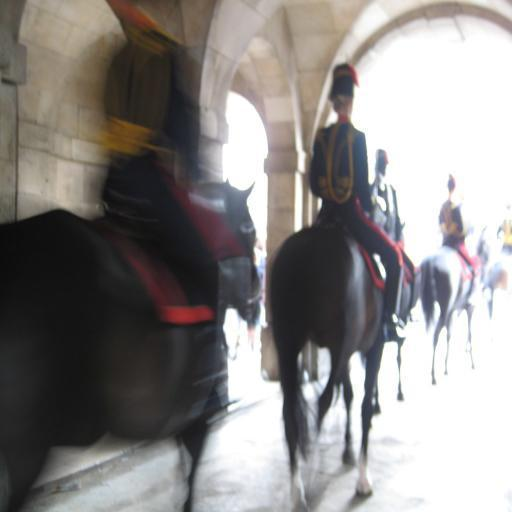horse: (0, 172, 264, 511), (264, 178, 395, 512), (422, 225, 488, 384)
